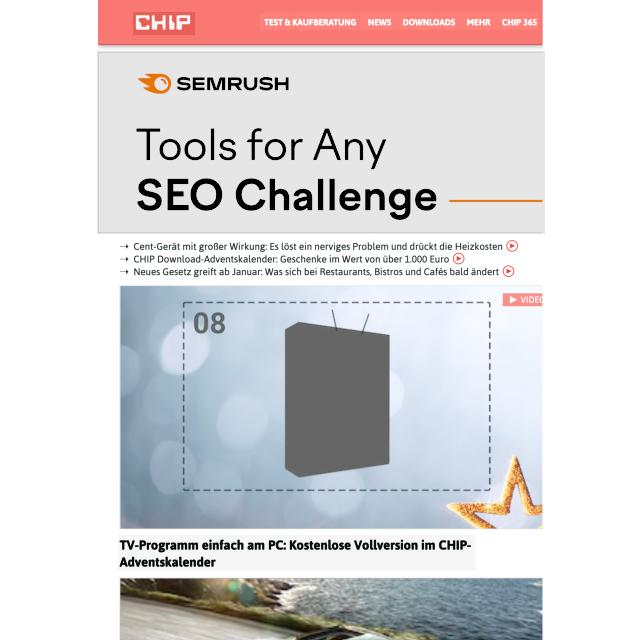ImageView: (97, 51, 545, 234)
bag: (98, 0, 542, 44)
breadcrumbs: (118, 535, 476, 571)
copy: (120, 284, 543, 530)
date picker: (133, 12, 195, 35)
decoration: (260, 13, 539, 30)
